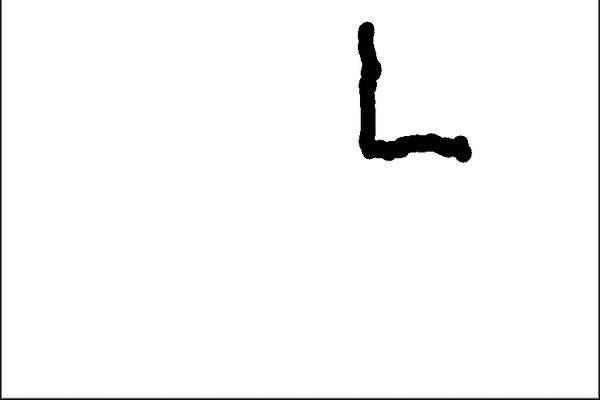L: (343, 11, 477, 168)
